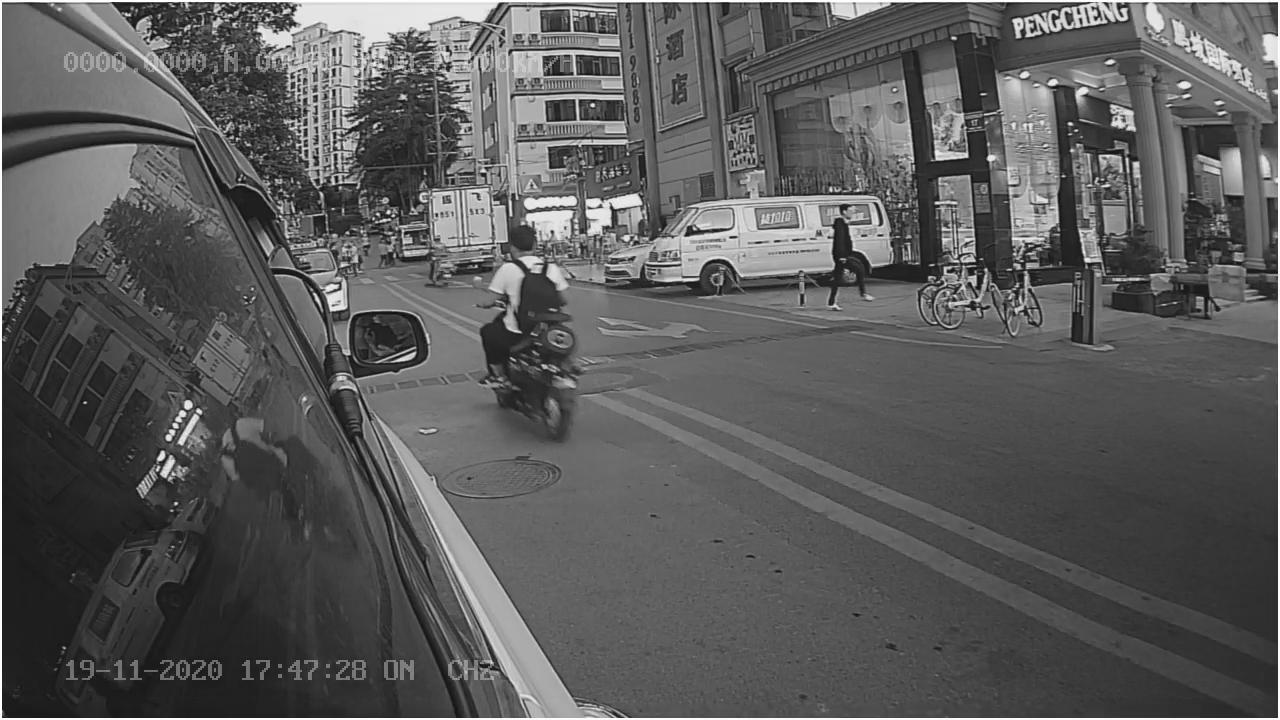person: (488, 226, 574, 334)
